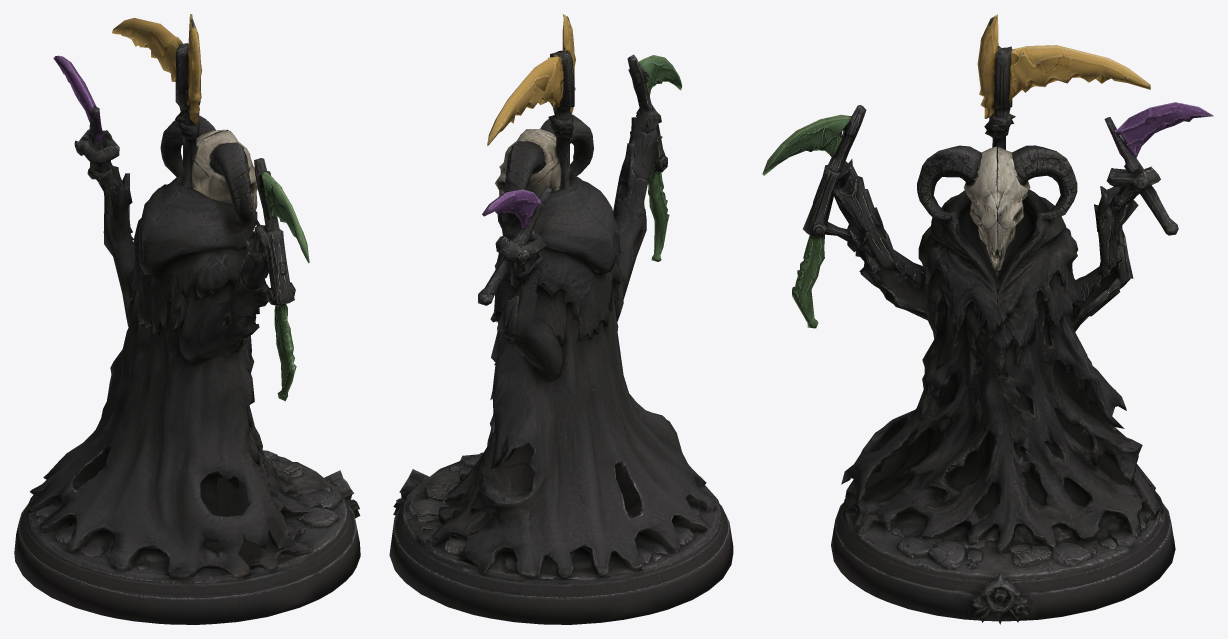
The model's file is Death.glb.
3 views of the same model, side by side, from view 1: azimuth 30°, elevation 25°; view 2: azimuth 150°, elevation 25°; view 3: azimuth 270°, elevation 25° (orthographic).
Visible parts, largest first — view 1: tripo_node_c40abd39-c6c2-462a-a919-bb26a8bf099a; view 2: tripo_node_c40abd39-c6c2-462a-a919-bb26a8bf099a; view 3: tripo_node_c40abd39-c6c2-462a-a919-bb26a8bf099a.
Boxes of the visible parts, x1,y1,x2,y2 form: tripo_node_c40abd39-c6c2-462a-a919-bb26a8bf099a: [14, 14, 360, 624]; tripo_node_c40abd39-c6c2-462a-a919-bb26a8bf099a: [389, 14, 733, 624]; tripo_node_c40abd39-c6c2-462a-a919-bb26a8bf099a: [762, 14, 1213, 624].
Size of the model in its own units: 0.5852 by 0.977 by 0.7473.
Materials: 1 (1 with a texture image).
